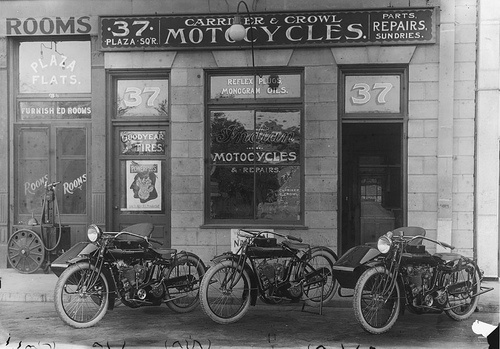non-vehicle: (331, 226, 494, 335), (50, 221, 210, 329), (198, 224, 338, 325)
